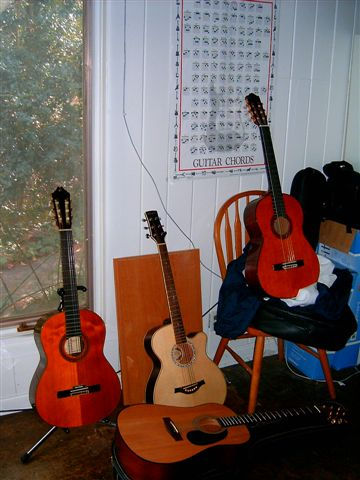guitar: (30, 183, 120, 427), (108, 398, 356, 479), (140, 208, 228, 414), (243, 92, 322, 302)
